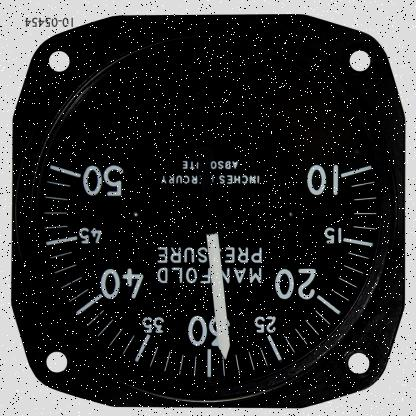needle: (203, 221, 232, 361)
